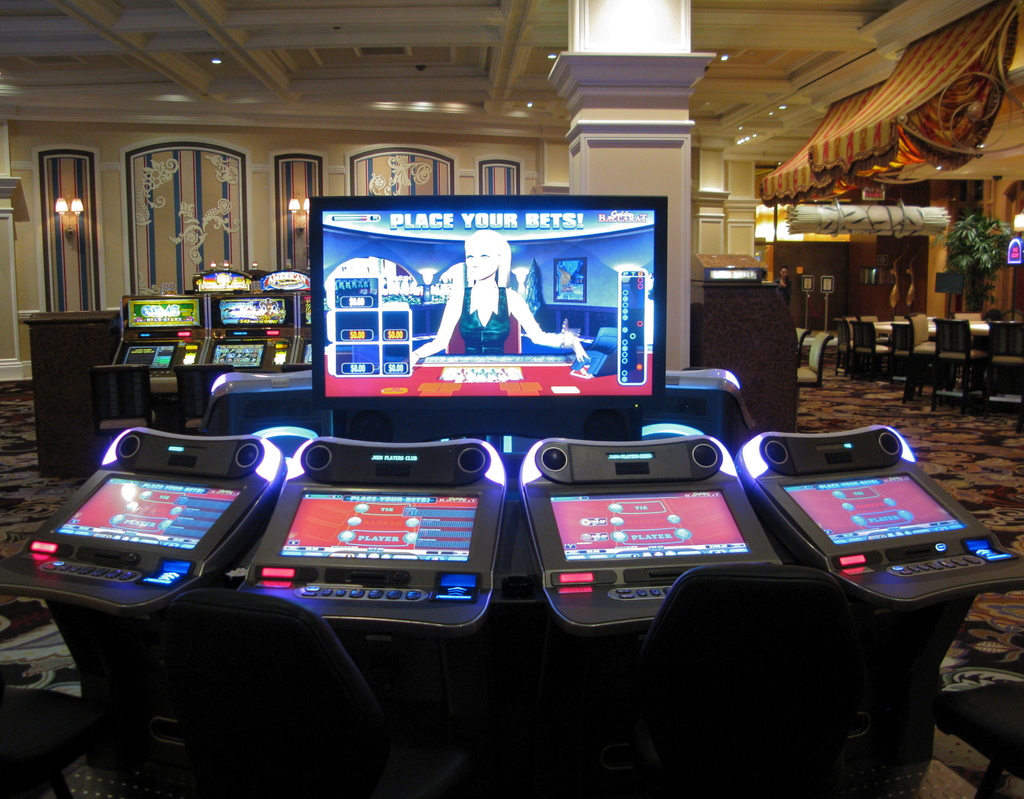Person: (400, 228, 589, 371)
